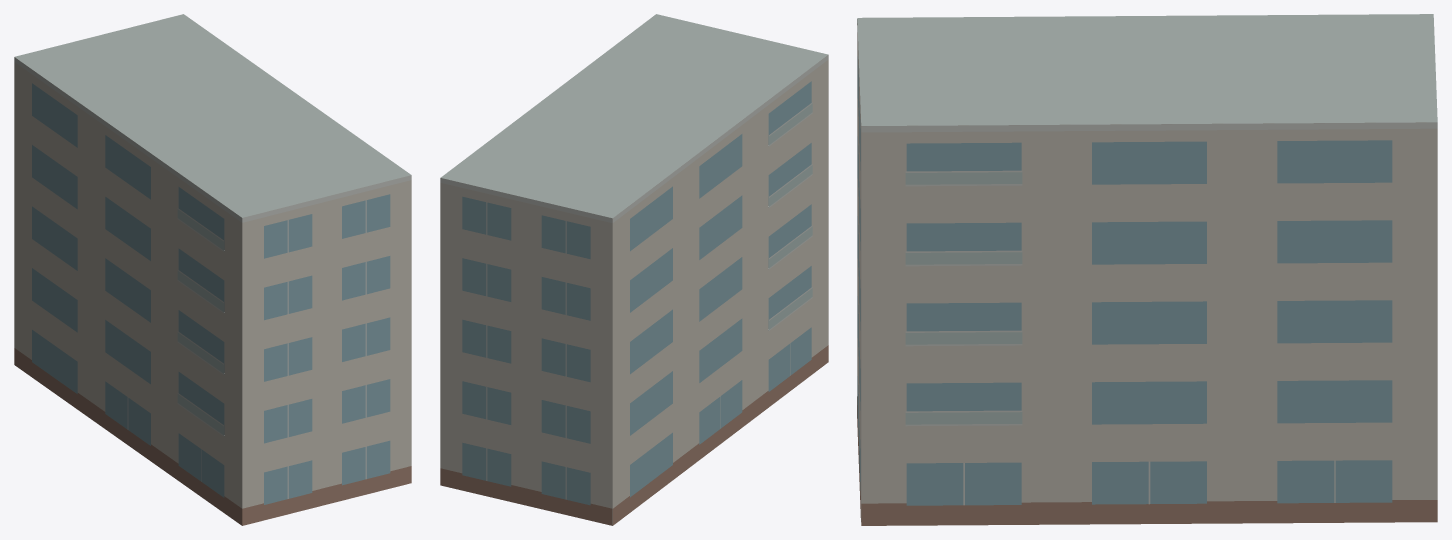
Rendered from survey-upis-32924835.glb.
3 renders of one model, left to right at view 1: azimuth 30°, elevation 25°; view 2: azimuth 150°, elevation 25°; view 3: azimuth 270°, elevation 25°, orthographic. The views are drawn at different scales.
Parts seen in each view (by area): view 1: survey-upis-32924835.tmp; view 2: survey-upis-32924835.tmp; view 3: survey-upis-32924835.tmp.
Boxes of the visible parts, <box> form: survey-upis-32924835.tmp: <box>14,14,411,525</box>; survey-upis-32924835.tmp: <box>440,14,828,525</box>; survey-upis-32924835.tmp: <box>857,14,1437,525</box>.
Size of the model in its own units: 9.19 by 15.25 by 20.08.
